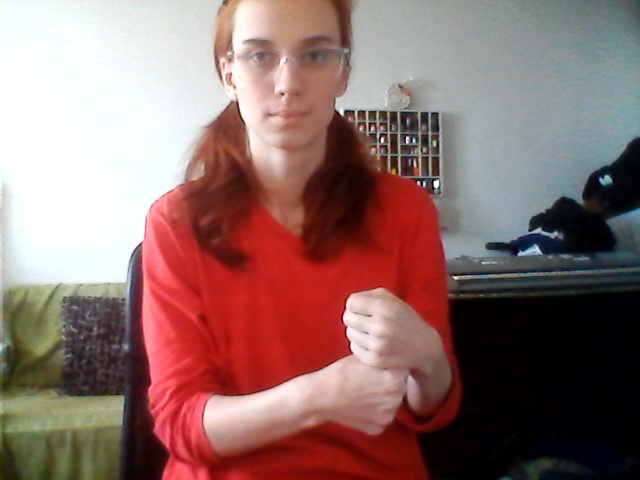g: (316, 283, 427, 445)
